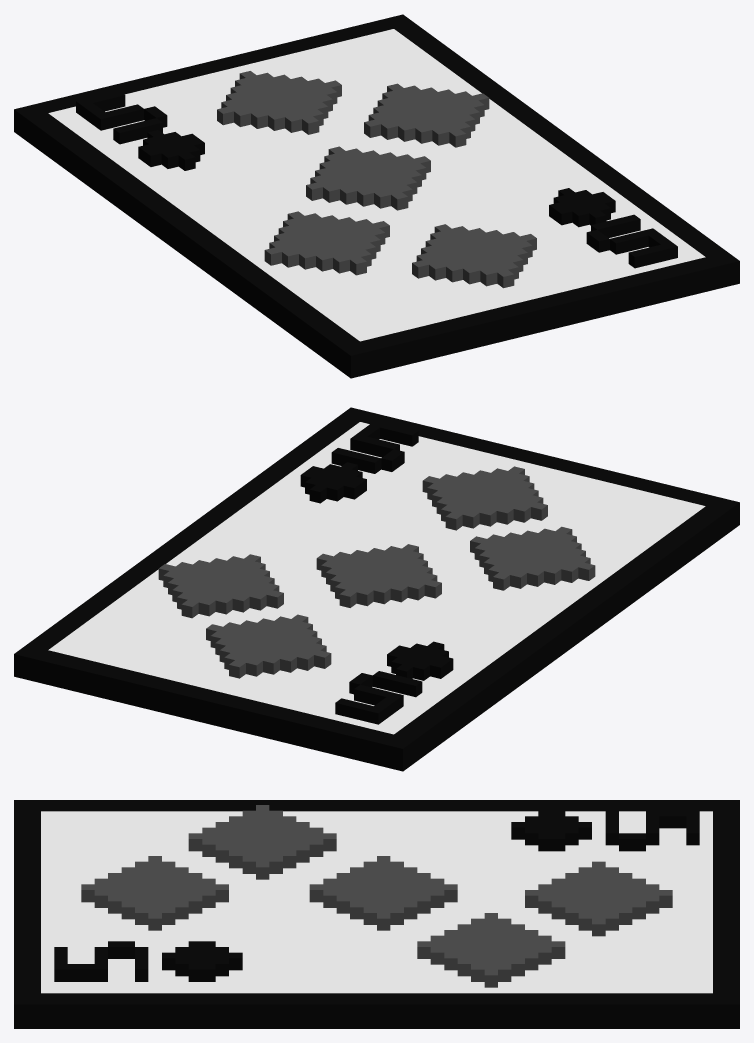
The model's file is Dia5.obj.
The picture shows the model from 3 angles, top to bottom: view 1: azimuth 30°, elevation 25°; view 2: azimuth 150°, elevation 25°; view 3: azimuth 270°, elevation 25°; orthographic projection. The views are drawn at different scales.
Size of the model in its own units: 36 by 3 by 54.
1 material, 1 textured.
